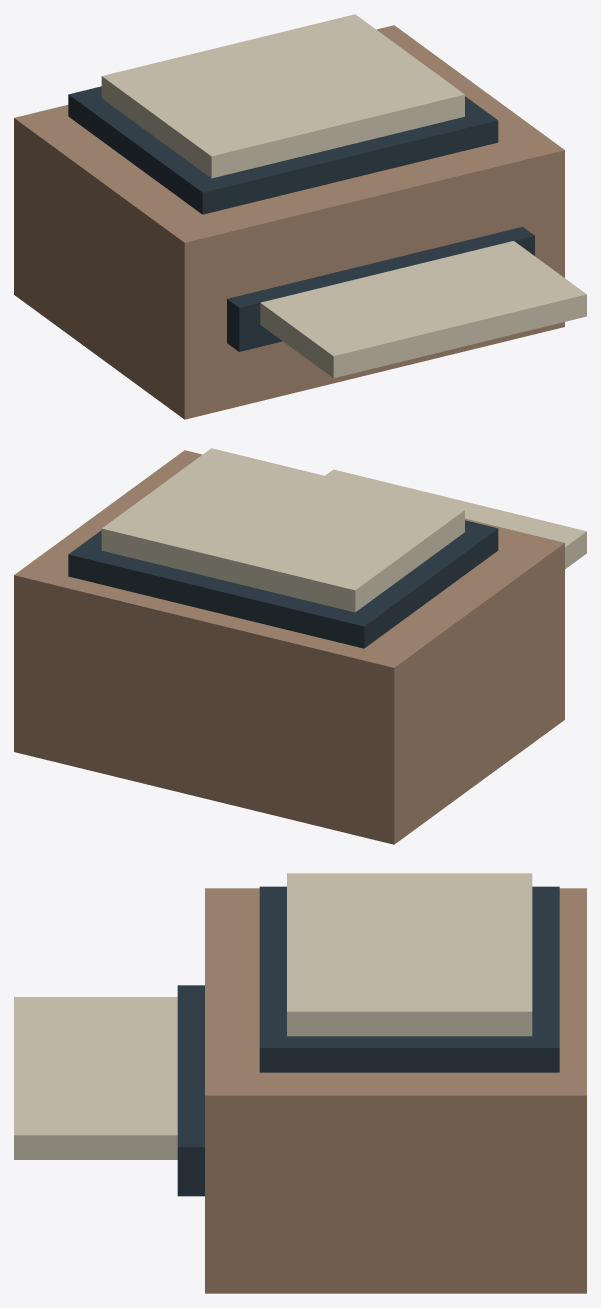
File: publishing-03.glb
3 views of the same model, one above another, from view 1: azimuth 30°, elevation 25°; view 2: azimuth 150°, elevation 25°; view 3: azimuth 270°, elevation 25° (orthographic). The views are drawn at different scales.
Parts seen in each view (by area): view 1: Printing press; view 2: Printing press; view 3: Printing press.
Boxes of the visible parts, <box> form: Printing press: <box>14,14,586,419</box>; Printing press: <box>14,448,586,844</box>; Printing press: <box>14,873,586,1293</box>.
Size of the model in its own units: 1.44 by 0.8 by 1.68.
